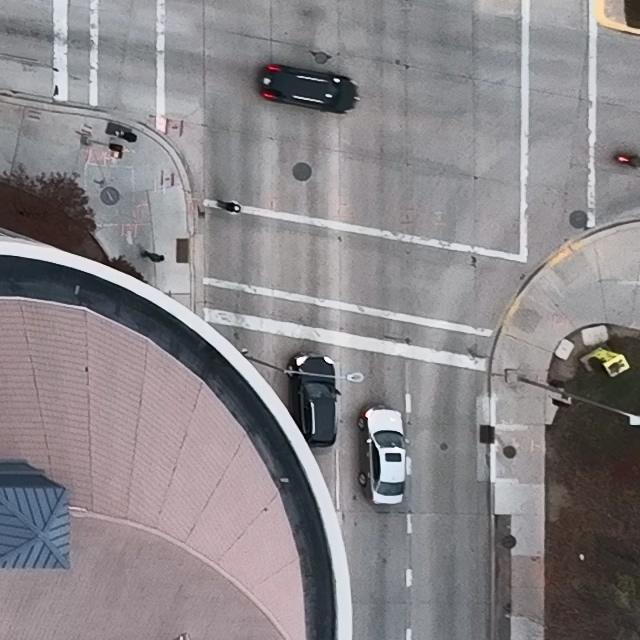car: (357, 401, 411, 506), (286, 350, 342, 448), (255, 63, 361, 114)
